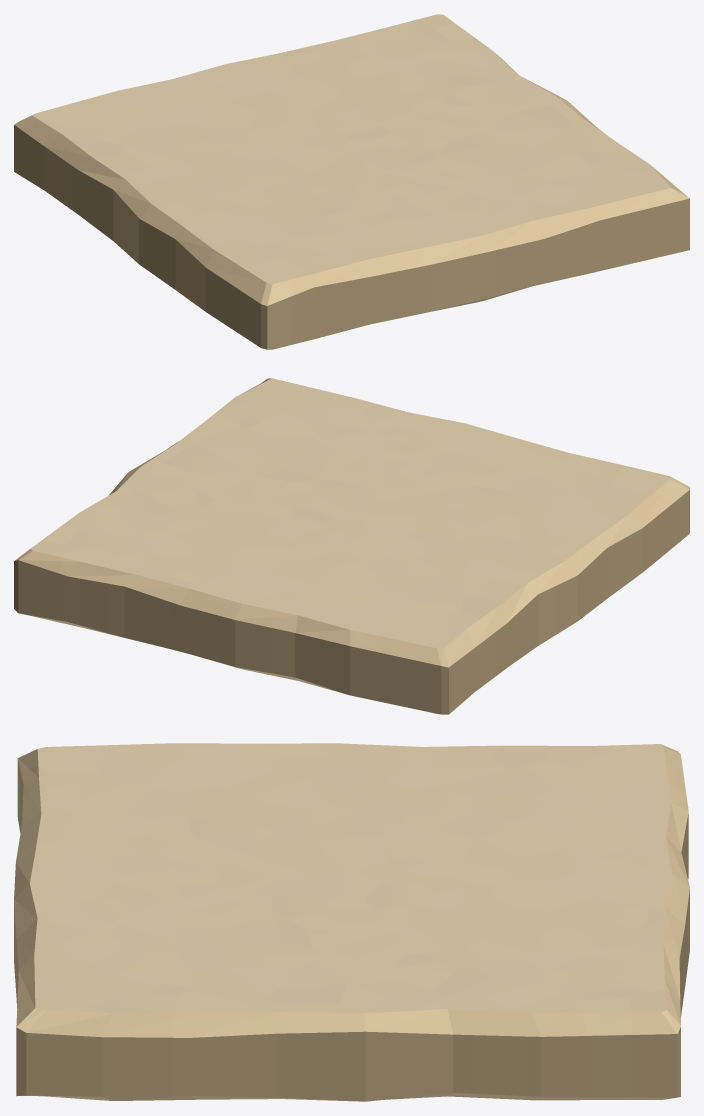
The model's file is tile_c_intact.glb.
3 views of the same model, one above another, from view 1: azimuth 30°, elevation 25°; view 2: azimuth 150°, elevation 25°; view 3: azimuth 270°, elevation 25° (orthographic). The views are drawn at different scales.
Parts seen in each view (by area): view 1: tile_c_intact; view 2: tile_c_intact; view 3: tile_c_intact.
Part boxes in pixels (x1=…): tile_c_intact: x1=14, y1=14, x2=689, y2=349; tile_c_intact: x1=14, y1=378, x2=689, y2=714; tile_c_intact: x1=14, y1=743, x2=689, y2=1101.
Size of the model in its own units: 2.8 by 0.4 by 2.8.
3 materials, 3 textured.
